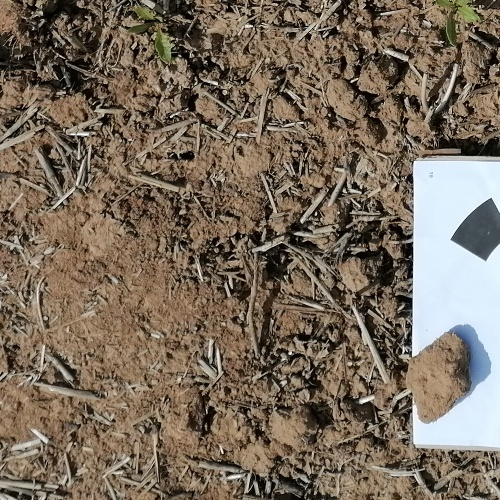beet: (127, 3, 171, 65), (434, 0, 485, 50)
